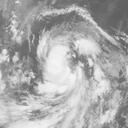cyclone: (28, 13, 121, 118)
